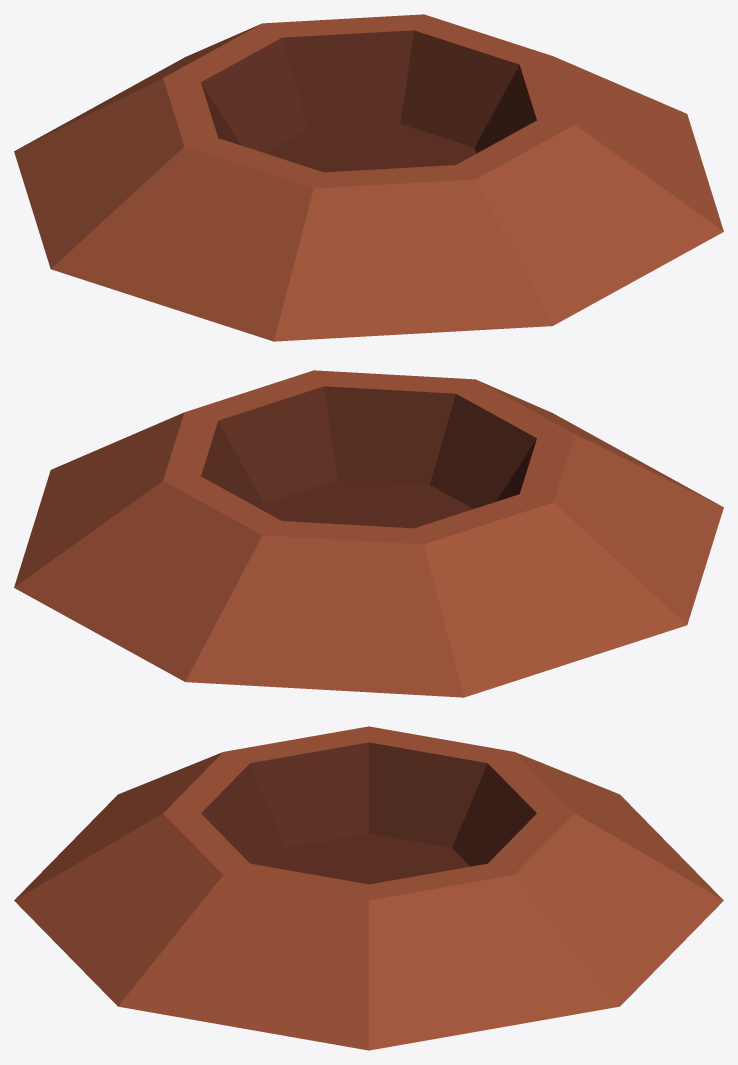
Rendered from Crater Large.glb.
The picture shows the model from 3 angles, top to bottom: view 1: azimuth 30°, elevation 25°; view 2: azimuth 150°, elevation 25°; view 3: azimuth 270°, elevation 25°; orthographic projection. The views are drawn at different scales.
Parts seen in each view (by area): view 1: craterLarge; view 2: craterLarge; view 3: craterLarge.
Boxes of the visible parts, x1,y1,x2,y2 form: craterLarge: [14, 14, 723, 341]; craterLarge: [14, 370, 723, 697]; craterLarge: [14, 726, 723, 1050].
Size of the model in its own units: 0.886 by 0.12 by 0.886.
